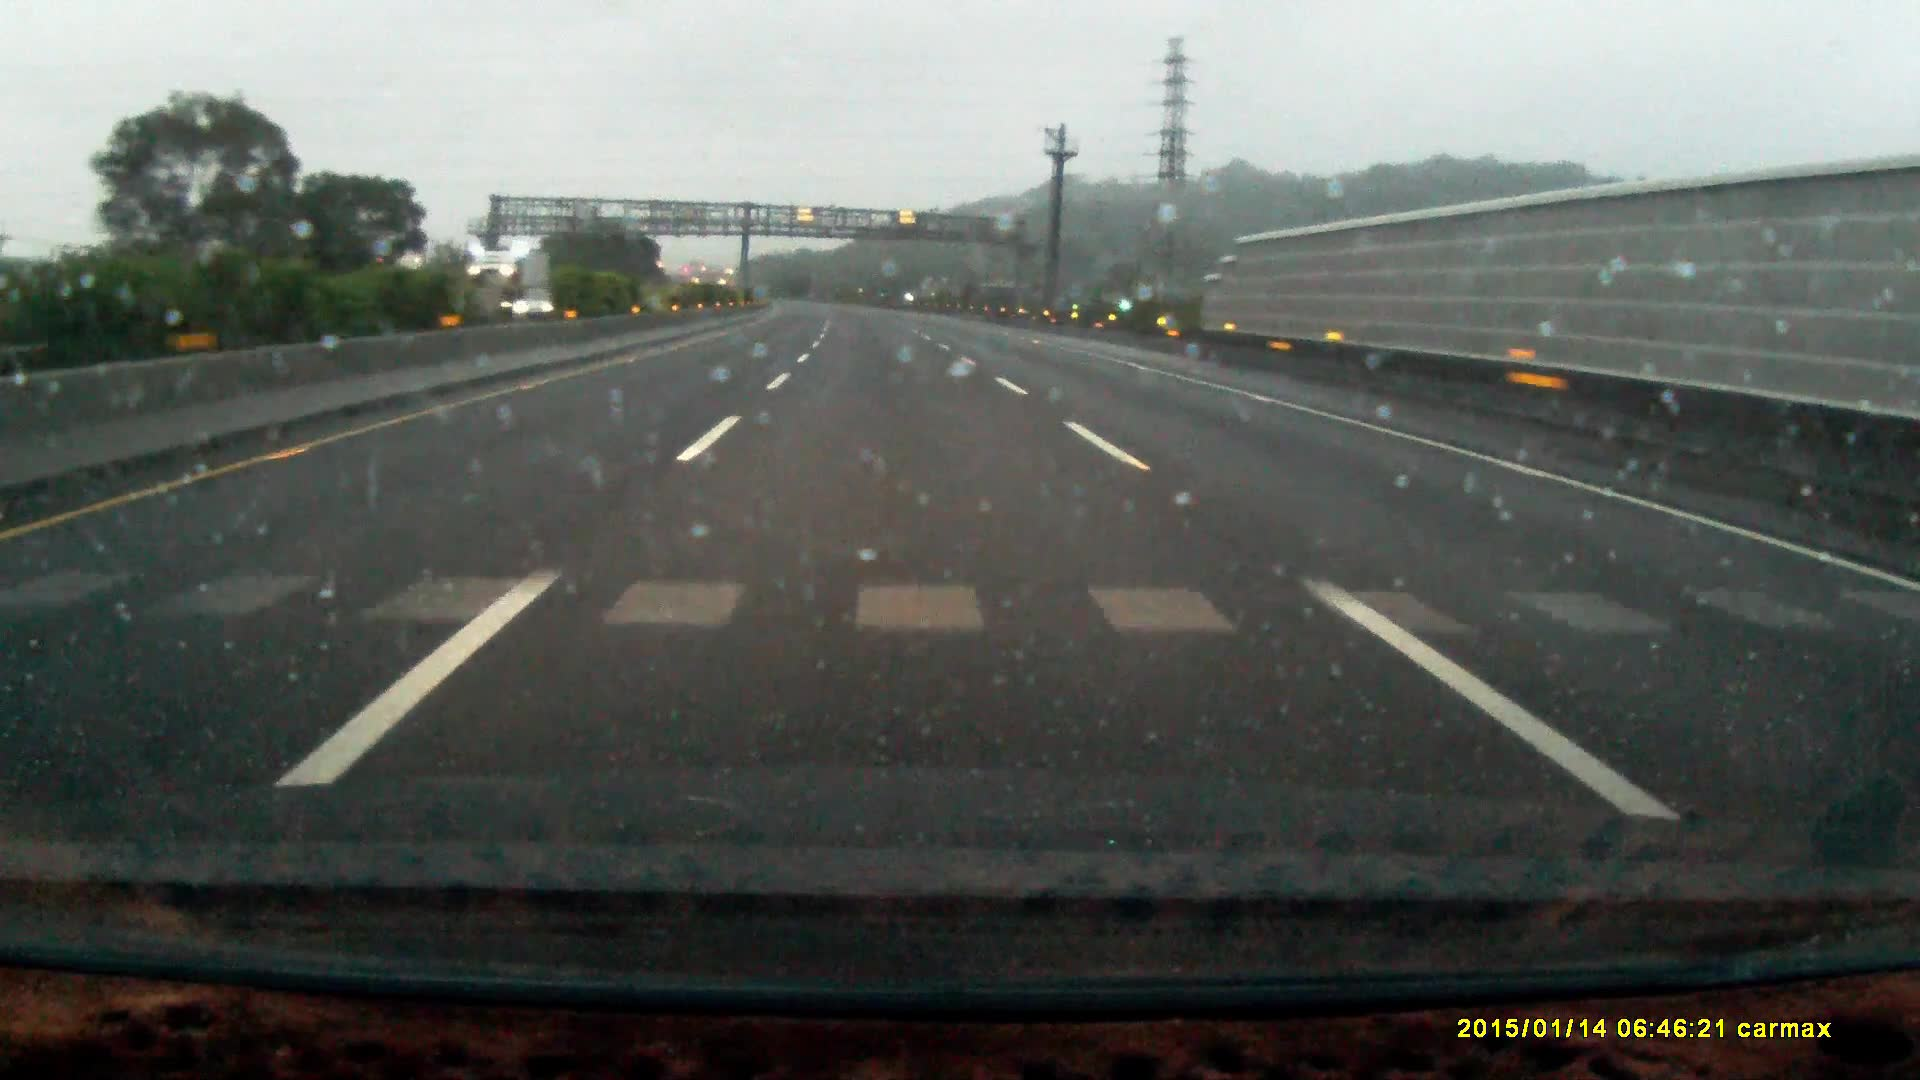vehicle: (468, 249, 556, 320), (510, 282, 579, 318)
